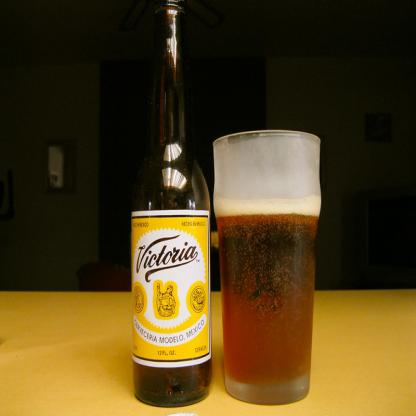drinking: (132, 0, 210, 407), (213, 130, 321, 405)
